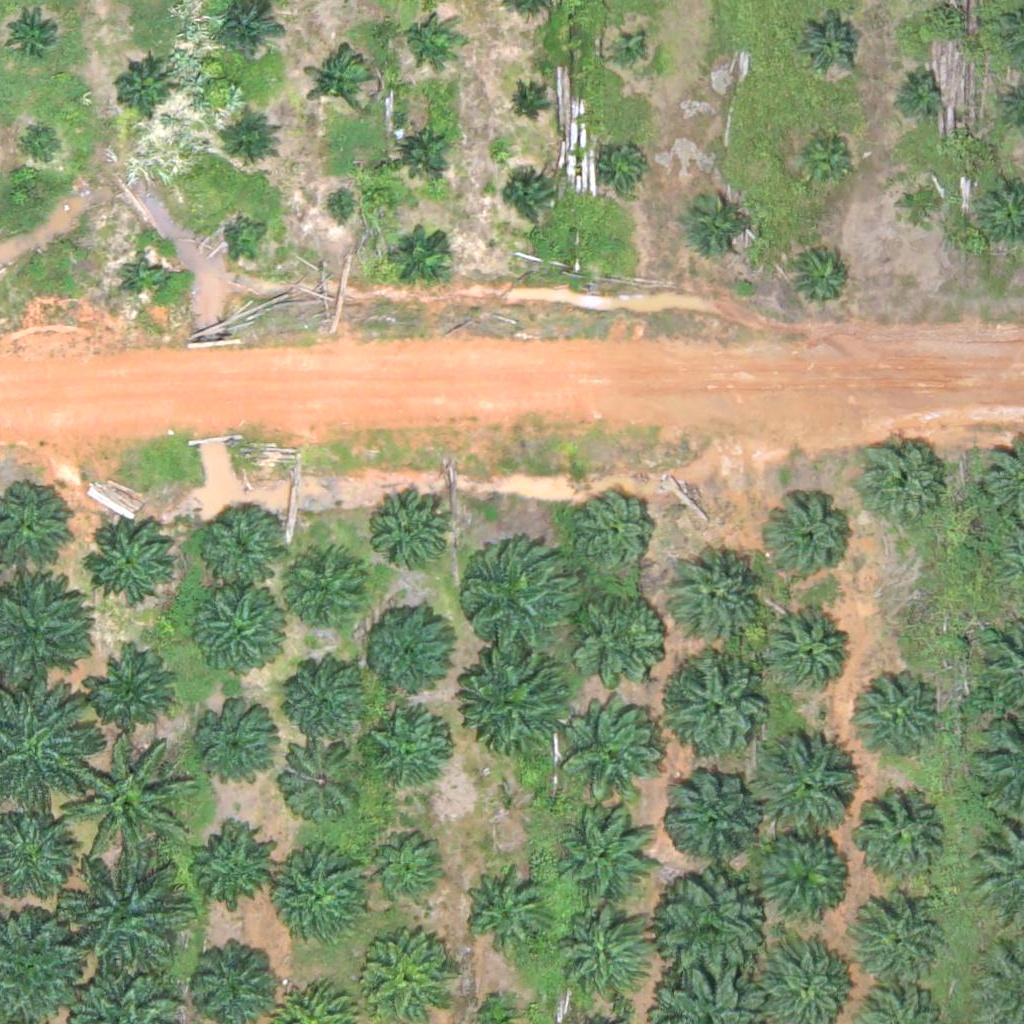Kelapa_Sawit: (64, 856, 189, 982), (61, 740, 186, 866), (458, 534, 583, 660), (746, 727, 858, 840), (663, 655, 775, 768), (656, 874, 768, 987), (842, 671, 942, 772), (847, 892, 947, 993), (749, 825, 849, 926), (665, 547, 765, 648), (557, 910, 657, 1011), (552, 804, 652, 905), (567, 701, 667, 802), (470, 652, 570, 753), (851, 786, 951, 886), (661, 767, 761, 867), (274, 852, 374, 952), (571, 579, 671, 679), (855, 436, 943, 524), (758, 607, 846, 695), (192, 591, 280, 679), (197, 706, 285, 794), (185, 818, 273, 906), (189, 935, 277, 1023), (89, 644, 176, 733), (363, 607, 450, 696), (195, 499, 282, 587), (282, 653, 369, 741), (768, 496, 855, 584), (84, 515, 171, 603), (277, 734, 364, 822), (285, 545, 372, 633), (371, 488, 458, 576), (368, 715, 455, 803), (572, 492, 659, 580), (462, 865, 549, 953), (682, 186, 757, 262), (303, 46, 378, 122), (373, 831, 448, 906), (6, 2, 69, 65), (393, 223, 456, 286), (220, 113, 283, 176), (392, 118, 455, 181), (112, 61, 175, 124), (799, 14, 862, 77), (792, 246, 855, 309), (792, 128, 855, 191), (892, 65, 942, 116), (225, 211, 275, 262), (119, 253, 169, 304), (18, 120, 68, 171), (401, 10, 451, 60), (502, 173, 552, 223), (602, 140, 652, 190), (896, 181, 946, 231), (611, 35, 649, 73), (320, 189, 358, 227), (506, 86, 543, 124)
